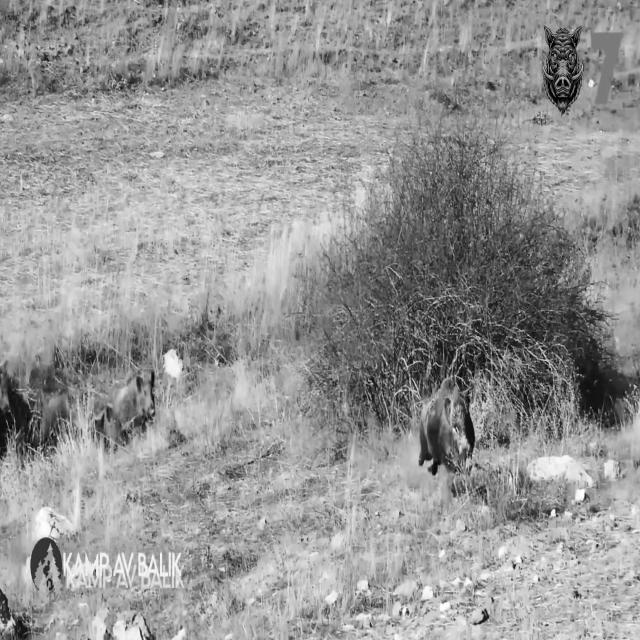boar: (418, 377, 474, 474), (94, 371, 154, 442), (0, 366, 31, 454), (39, 392, 69, 444), (28, 364, 66, 393)
